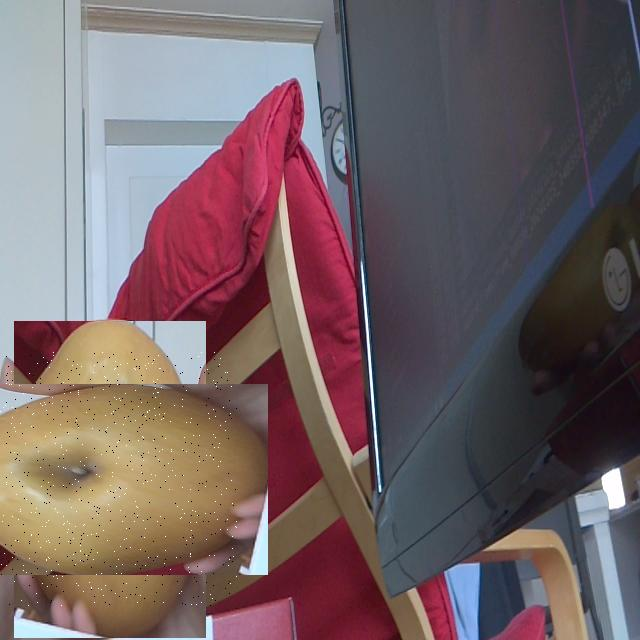pear: (0, 352, 237, 606)
